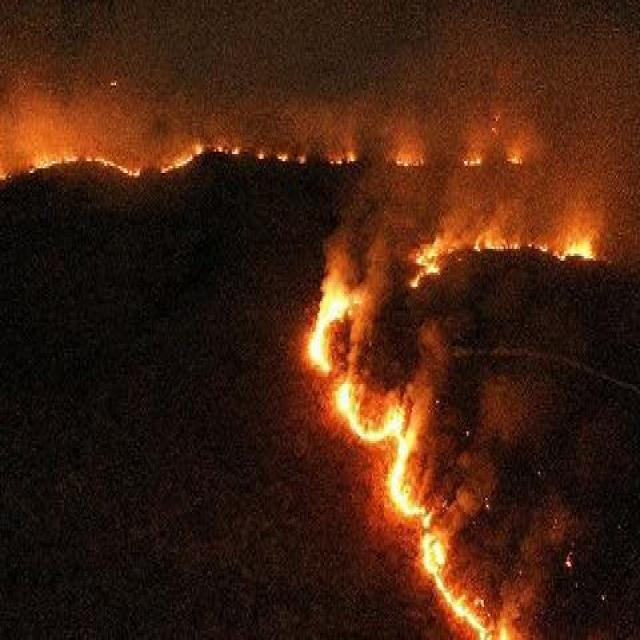fire: (299, 276, 528, 631), (2, 129, 526, 179), (342, 213, 600, 277)
